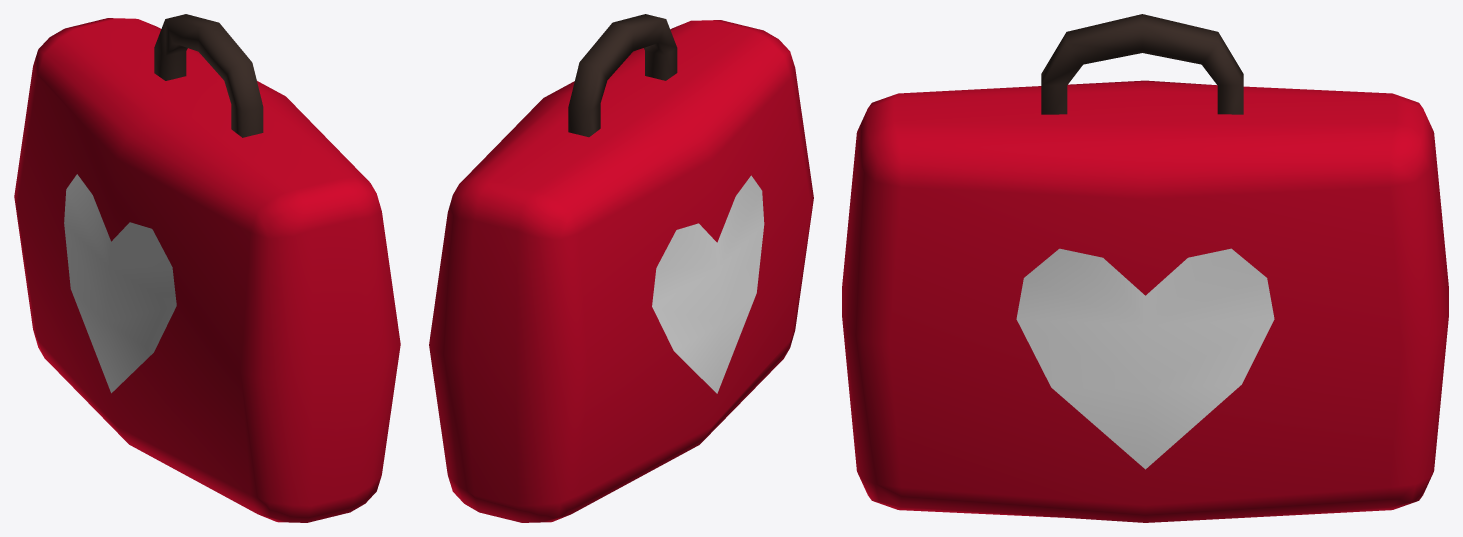
Rendered from Medkit.fbx.
3 renders of one model, left to right at view 1: azimuth 30°, elevation 25°; view 2: azimuth 150°, elevation 25°; view 3: azimuth 270°, elevation 25°, orthographic. The views are drawn at different scales.
Visible parts, largest first — view 1: Medkit; view 2: Medkit; view 3: Medkit.
Boxes of the visible parts, x1,y1,x2,y2 form: Medkit: (14, 14, 400, 522); Medkit: (429, 14, 813, 522); Medkit: (842, 14, 1448, 522).
Bounding box in the file's own units: 45.48 × 89.98 × 104.
